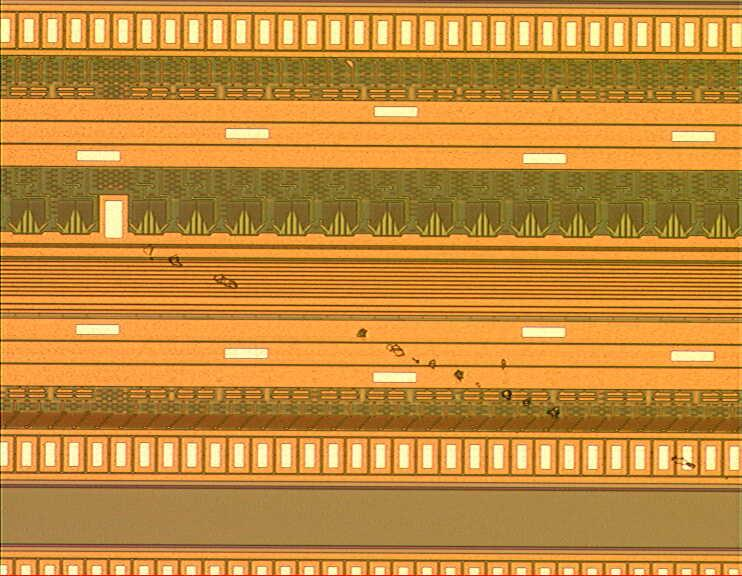SCRATCH: (128, 232, 741, 498)
